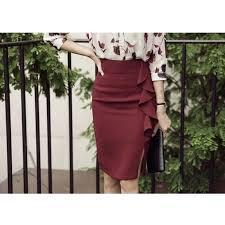skirt: (82, 55, 160, 194)
